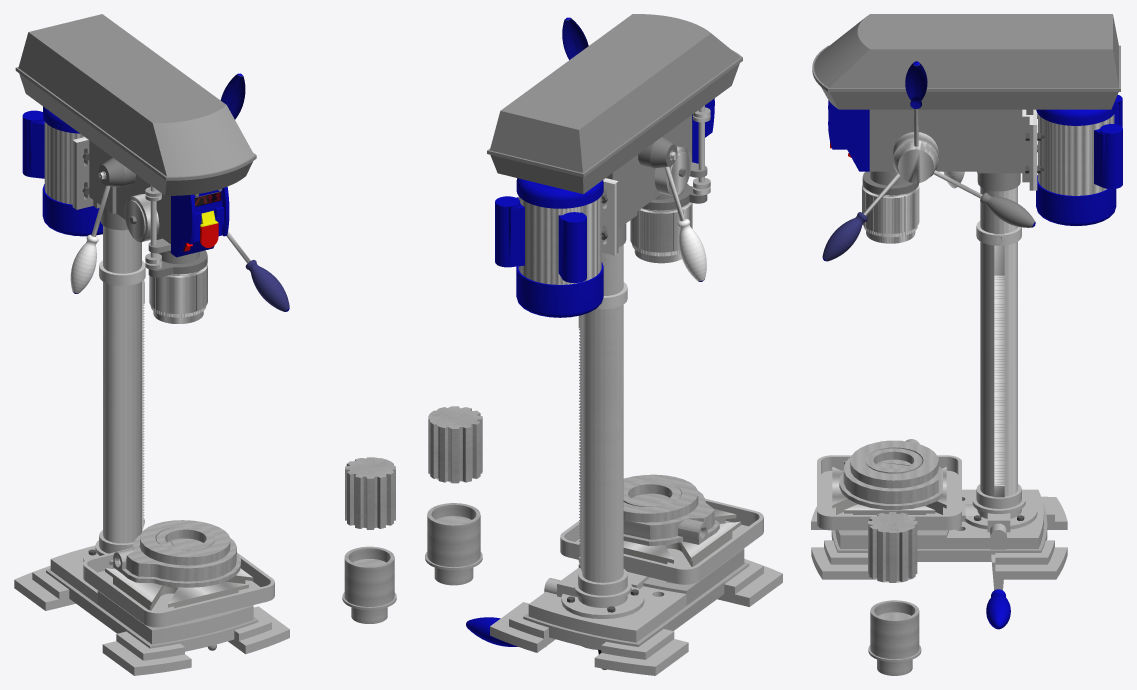
3 views of the same model, side by side, from view 1: azimuth 30°, elevation 25°; view 2: azimuth 150°, elevation 25°; view 3: azimuth 270°, elevation 25° (orthographic). The views are drawn at different scales.
Visible parts, largest first — view 1: 01, 04, 3, 1, 2, 03, 02.001, 1.001; view 2: 01, 04, 3, 1, 2, 03, 1.001, 02.001; view 3: 01, 04, 3, 02.001, 1, 2, 03, 1.001.
Part boxes in pixels (x1,y1,x2,y2): 01: (14,14,289,675); 04: (83,540,274,650); 3: (113,520,240,588); 1: (342,546,396,623); 2: (345,457,395,529); 03: (149,263,207,323); 02.001: (220,73,289,311); 1.001: (156,526,214,550); 01: (487,14,782,675); 04: (466,498,763,669); 3: (623,474,719,545); 1: (425,503,482,585); 2: (428,406,482,483); 03: (630,202,692,263); 1.001: (623,480,681,506); 02.001: (562,17,588,59); 01: (811,14,1122,579); 04: (817,455,1025,629); 3: (839,439,942,509); 02.001: (822,61,1035,261); 1: (868,600,921,675); 2: (868,512,917,582); 03: (862,184,919,243); 1.001: (865,448,922,473).
Size of the model in its own units: 210 by 383 by 197.
Materials: 39 (12 with a texture image).
